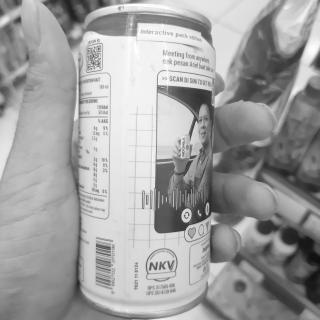alumunium_can: (66, 2, 236, 320)
